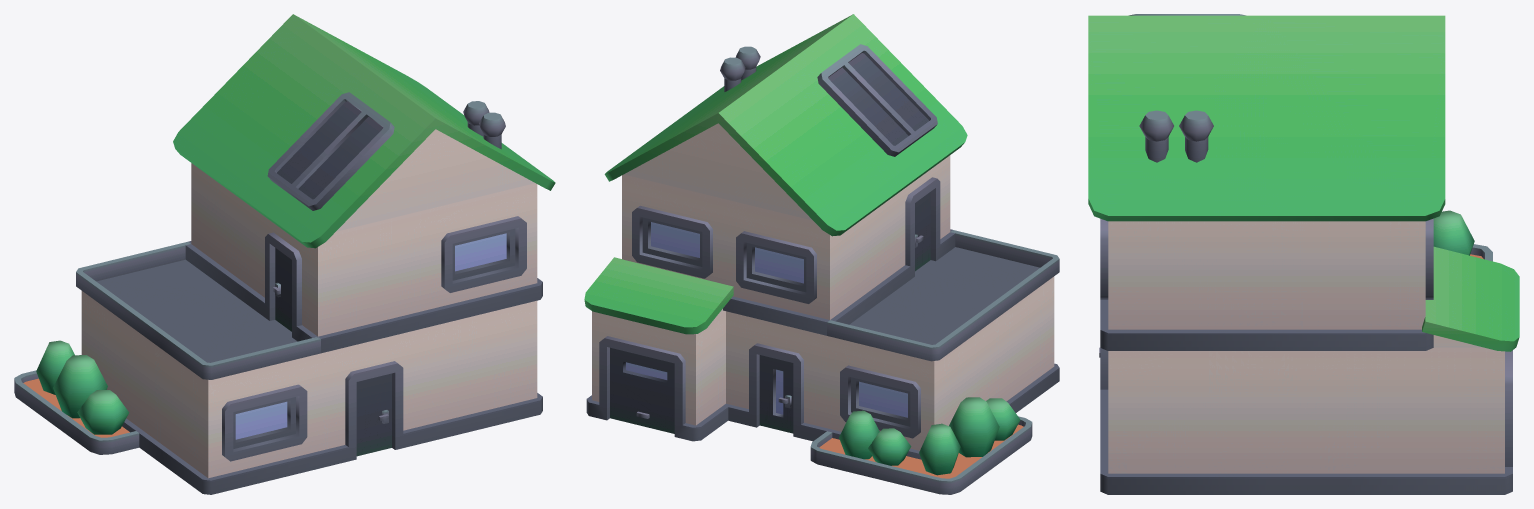
Rendered from sub_building_type_u.glb.
3 views of the same model, side by side, from view 1: azimuth 30°, elevation 25°; view 2: azimuth 150°, elevation 25°; view 3: azimuth 270°, elevation 25° (orthographic). The views are drawn at different scales.
Parts seen in each view (by area): view 1: building-type-u; view 2: building-type-u; view 3: building-type-u.
Part boxes in pixels (<box>): building-type-u: <box>14,14,555,494</box>; building-type-u: <box>584,14,1059,494</box>; building-type-u: <box>1088,14,1519,494</box>.
Bounding box in the file's own units: 1.43 × 1.14 × 1.09.
1 material, 1 textured.
